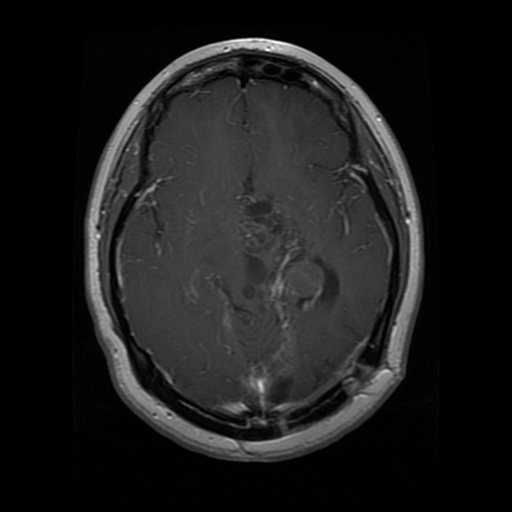glioma: (240, 174, 340, 397)
